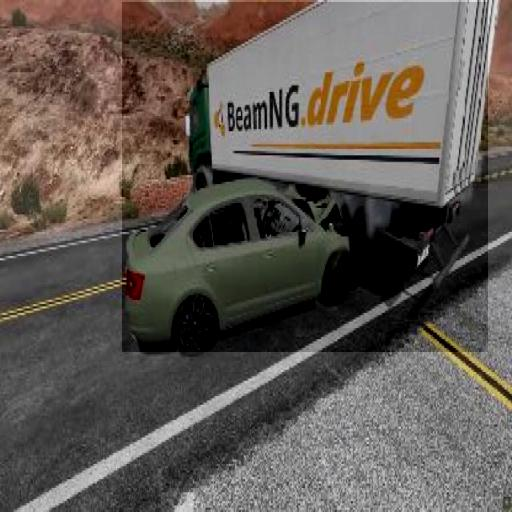小汽车撞小汽车: (122, 2, 488, 352)
